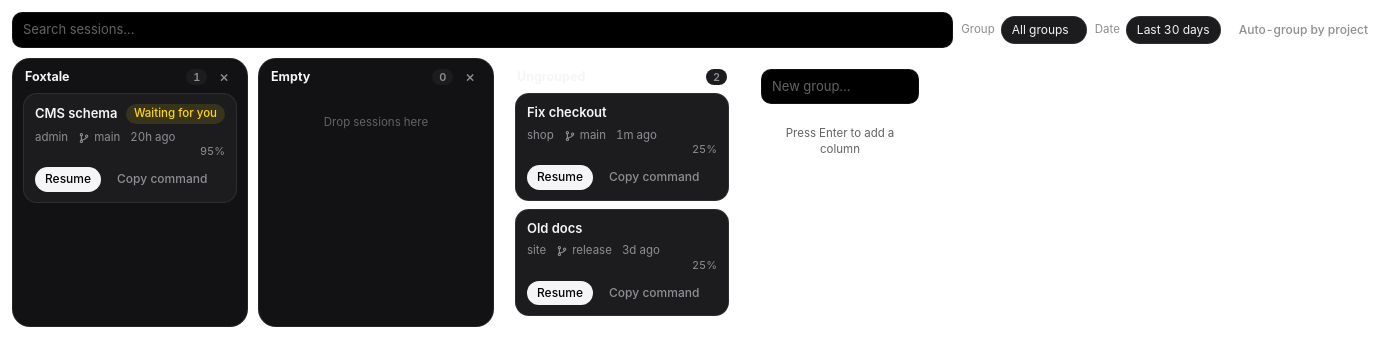
it: search still filters
In the field with placeholder "Search sessions…": (483, 30) [12, 12, 953, 48], type "release"
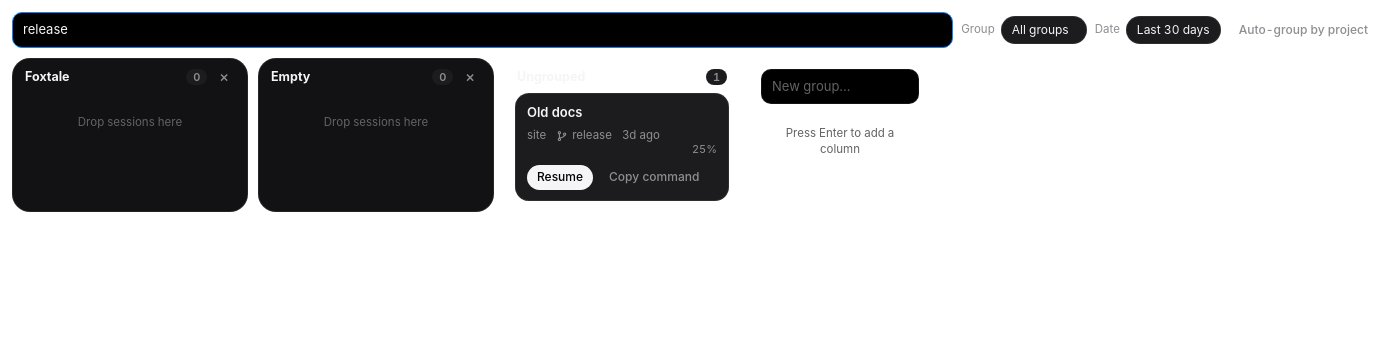
Check: the text "Old docs" is shown, box [527, 104, 582, 122]
Check: the text "Fix checkout" is gone
